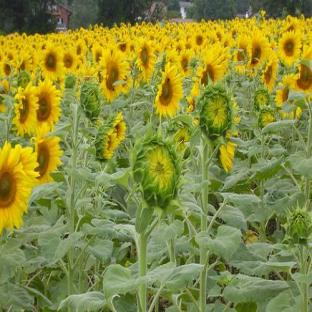sunflower: (102, 124, 189, 309), (150, 62, 184, 118)
